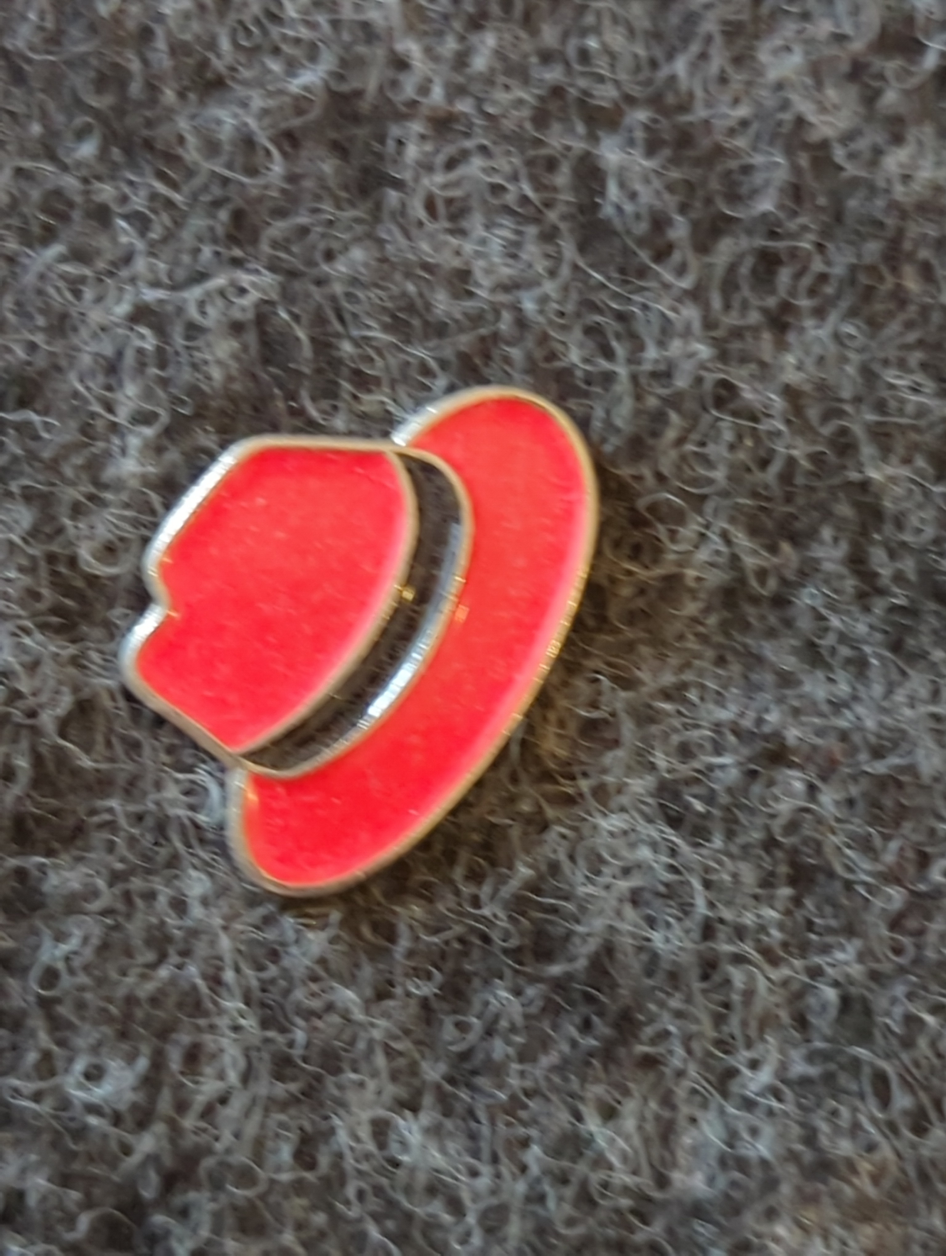Red-Hat: (43, 305, 765, 974)
